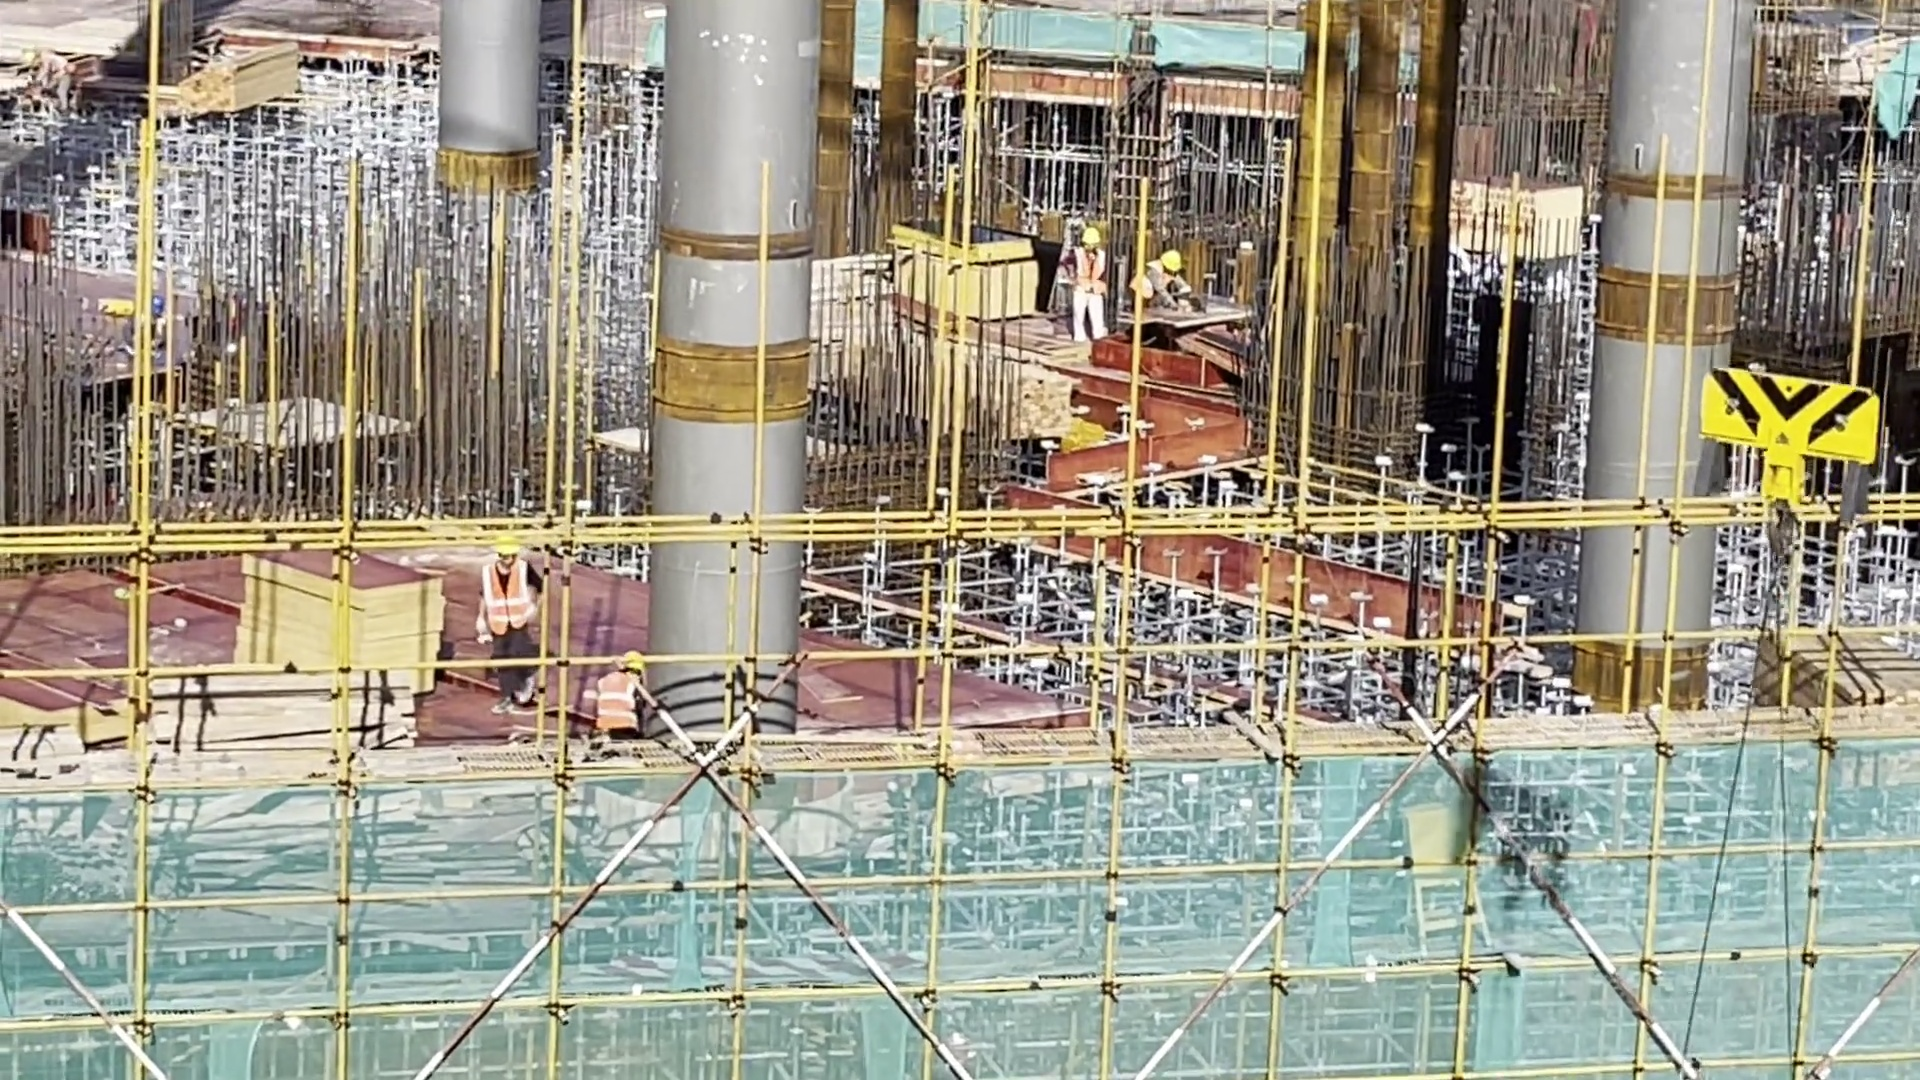board: (231, 540, 443, 713), (1743, 630, 1920, 741), (895, 212, 1038, 326)
ebox: (1395, 796, 1491, 959)
helmet: (617, 648, 654, 683), (495, 531, 523, 576), (1159, 247, 1186, 281), (1083, 226, 1106, 249)
hook: (1705, 342, 1883, 509)
person: (473, 527, 547, 715), (587, 638, 669, 761), (1062, 223, 1122, 349), (1126, 245, 1198, 320)
vest: (479, 562, 540, 631), (592, 672, 644, 734), (1069, 246, 1110, 299)
wood: (138, 645, 441, 807), (177, 41, 295, 131)
